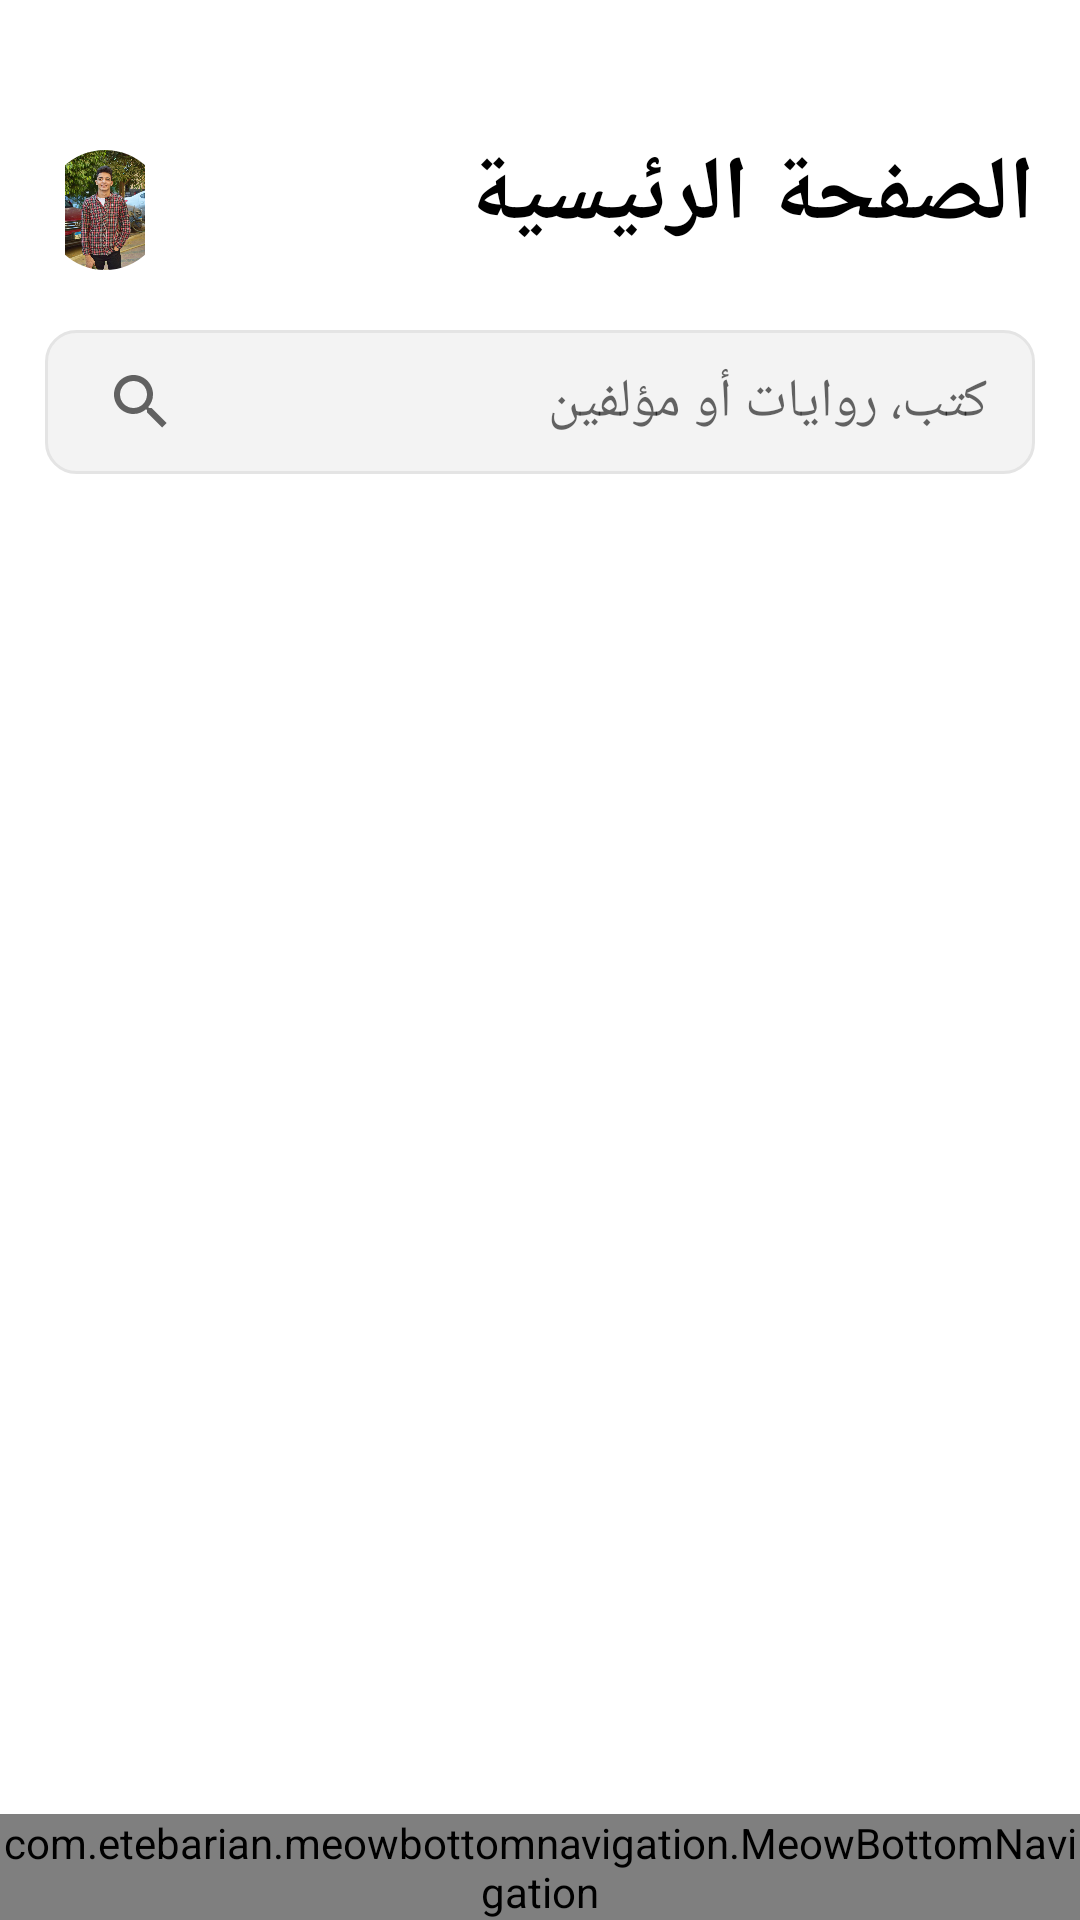

Named icons in this screenshot (1080×1920) and their bounding boxes, {"left": x1, "top": y1, "right": x2, "bottom": y2}:
profile picture: {"left": 65, "top": 150, "right": 145, "bottom": 270}
